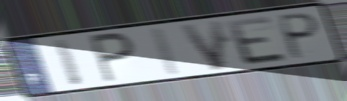E: (224, 14, 290, 67)
I: (50, 36, 86, 88), (148, 25, 183, 78)
P: (88, 31, 137, 85), (277, 11, 322, 62)
V: (177, 18, 226, 73)
